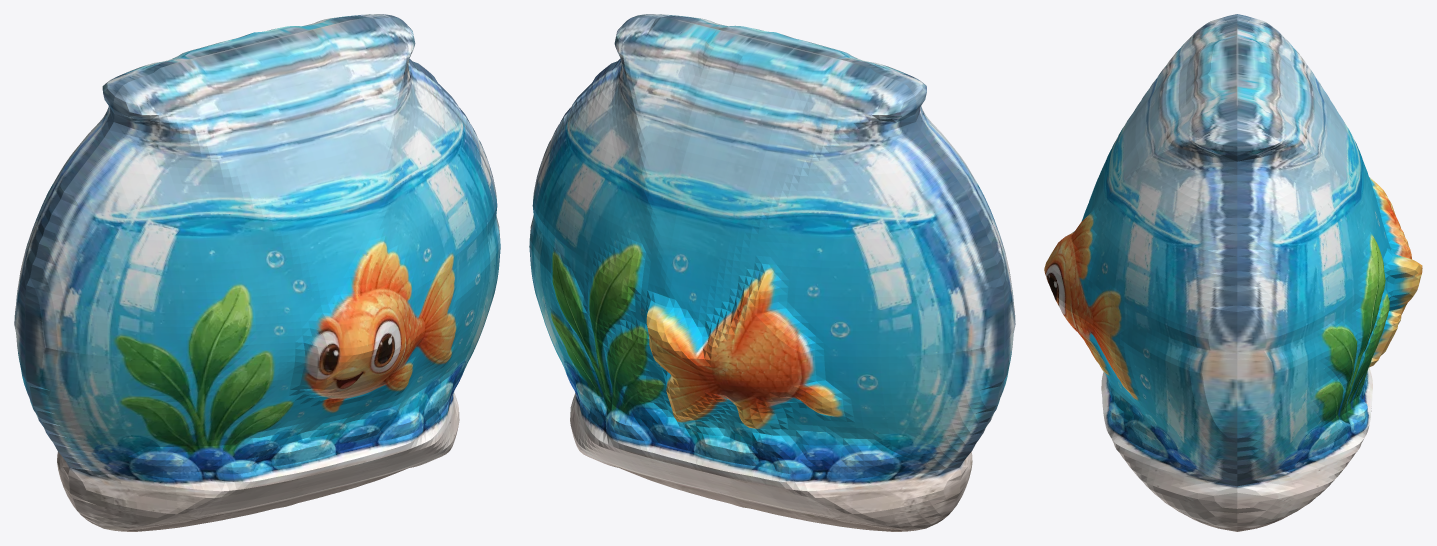
File: fishbowl_helmet.glb
The picture shows the model from 3 angles, left to right: view 1: azimuth 30°, elevation 25°; view 2: azimuth 150°, elevation 25°; view 3: azimuth 270°, elevation 25°; orthographic projection. The views are drawn at different scales.
Parts seen in each view (by area): view 1: geometry_0; view 2: geometry_0; view 3: geometry_0.
Part boxes in pixels (box(x1,y1,x2,y2)): geometry_0: box(14, 14, 500, 531); geometry_0: box(529, 14, 1015, 531); geometry_0: box(1044, 14, 1422, 531).
Size of the model in its own units: 0.9818 by 0.9292 by 0.7814.
1 material, 1 textured.
